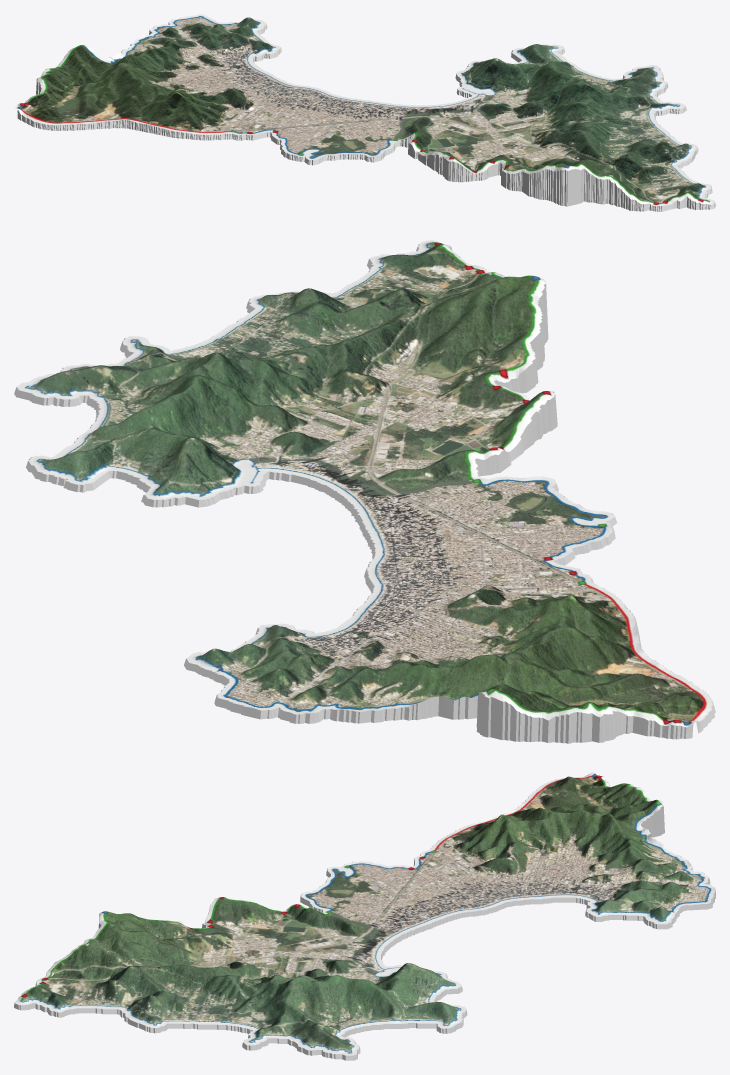
Rendered from balneario_camboriu.glb.
3 renders of one model, top to bottom at view 1: azimuth 30°, elevation 25°; view 2: azimuth 150°, elevation 25°; view 3: azimuth 270°, elevation 25°, orthographic. The views are drawn at different scales.
Bounding box in the file's own units: 1 × 0.0672 × 1.06.
1 material, 1 textured.
